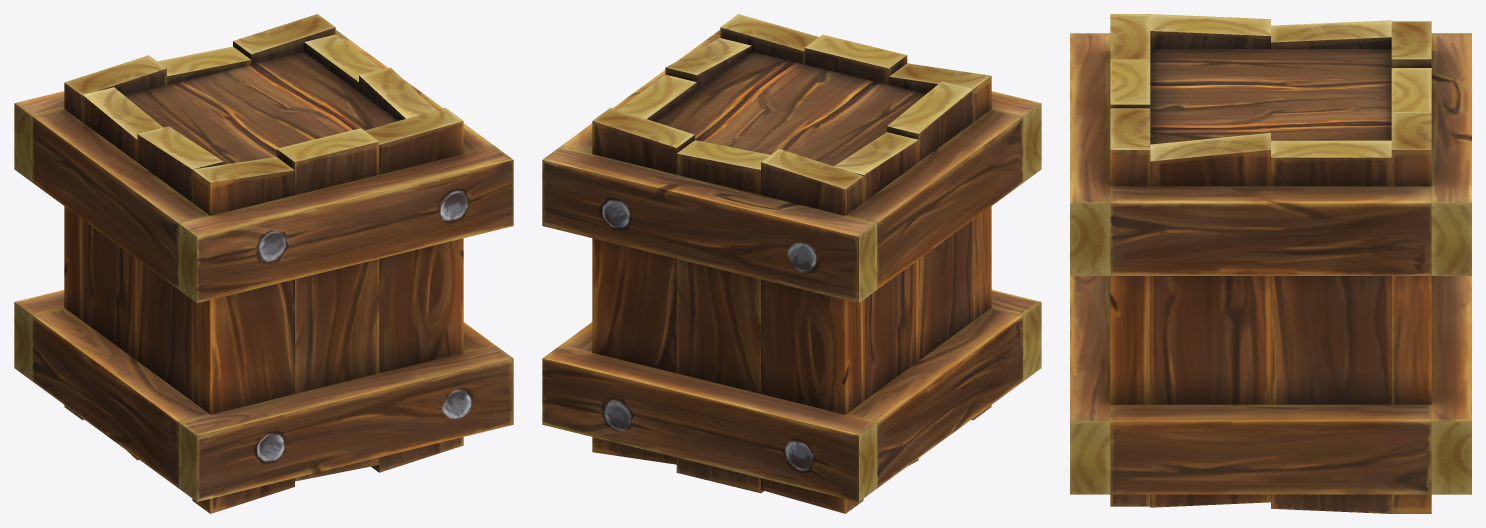
The model's file is boxCrush.FBX.
3 renders of one model, left to right at view 1: azimuth 30°, elevation 25°; view 2: azimuth 150°, elevation 25°; view 3: azimuth 270°, elevation 25°, orthographic. The views are drawn at different scales.
Visible parts, largest first — view 1: box_21, box_11, box_16, box_01, box_07, box_05, box_03, box_20, box_06, box_13, box_04, box_00 (+7 smaller); view 2: box_21, box_09, box_20, box_15, box_10, box_19, box_05, box_03, box_04, box_06, box_11, box_00 (+6 smaller); view 3: box_21, box_17, box_07, box_13, box_14, box_08, box_03, box_16, box_09, box_04, box_12, box_11 (+7 smaller).
Part boxes in pixels (x1,y1,x2,y2): box_21: [64, 294, 356, 513]; box_11: [179, 157, 400, 391]; box_16: [334, 238, 513, 472]; box_01: [276, 128, 379, 481]; box_07: [311, 106, 513, 263]; box_05: [32, 87, 162, 320]; box_03: [124, 51, 374, 138]; box_20: [14, 290, 127, 420]; box_06: [84, 148, 209, 289]; box_13: [359, 67, 463, 275]; box_04: [163, 99, 398, 164]; box_00: [137, 283, 192, 400]; box_21: [542, 243, 1041, 513]; box_09: [542, 107, 746, 326]; box_20: [704, 368, 952, 501]; box_15: [761, 149, 863, 414]; box_10: [680, 192, 876, 302]; box_19: [676, 140, 770, 493]; box_05: [834, 132, 977, 321]; box_03: [656, 80, 865, 166]; box_04: [713, 51, 925, 144]; box_06: [899, 109, 1023, 218]; box_11: [889, 63, 1041, 284]; box_00: [918, 220, 973, 360]; box_21: [1070, 276, 1471, 513]; box_17: [1110, 302, 1330, 507]; box_07: [1070, 104, 1275, 275]; box_13: [1110, 108, 1270, 378]; box_14: [1271, 140, 1391, 390]; box_08: [1230, 186, 1431, 275]; box_03: [1206, 49, 1391, 140]; box_16: [1070, 276, 1150, 506]; box_09: [1391, 103, 1471, 338]; box_04: [1150, 49, 1307, 144]; box_12: [1271, 340, 1391, 513]; box_11: [1070, 14, 1150, 127].
Bounding box in the file's own units: 100 × 100 × 100.
